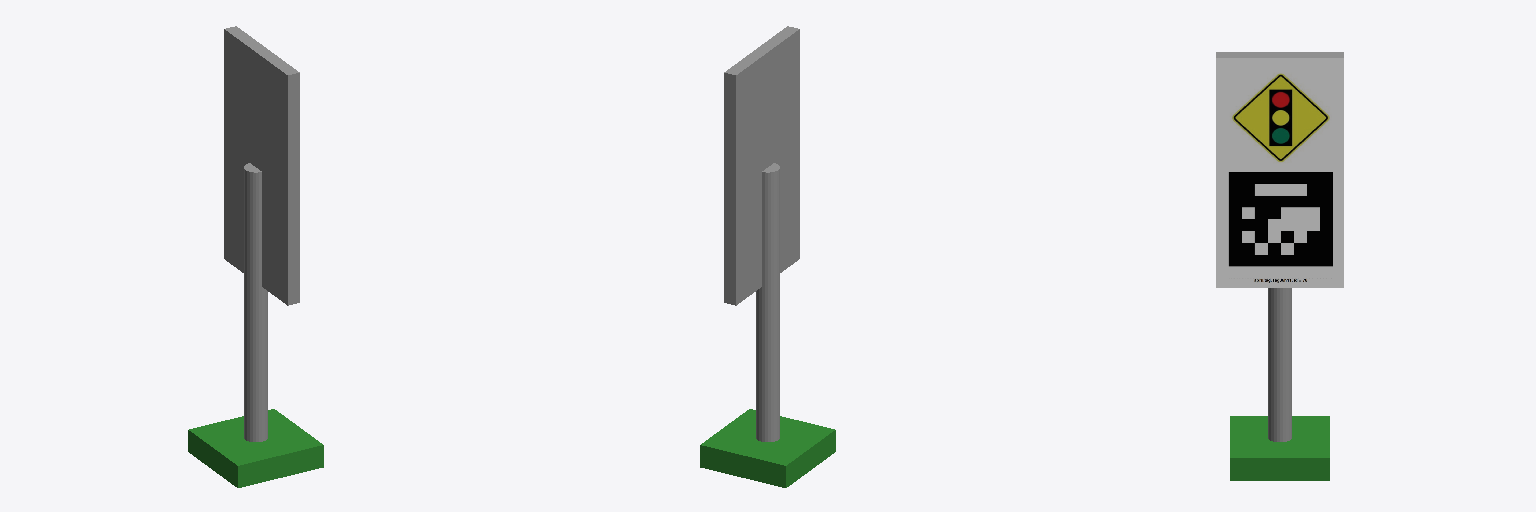
3 views of the same model, side by side, from view 1: azimuth 30°, elevation 25°; view 2: azimuth 150°, elevation 25°; view 3: azimuth 270°, elevation 25° (orthographic).
Parts seen in each view (by area): view 1: SketchUp.002_ID23, SketchUp_ID2, SketchUp.001_ID10; view 2: SketchUp.002_ID23, SketchUp_ID2, SketchUp.001_ID10; view 3: SketchUp.003_ID31, SketchUp_ID2, SketchUp.001_ID10, SketchUp.002_ID23.
Boxes of the visible parts, x1,y1,x2,y2 form: SketchUp.002_ID23: [224, 26, 299, 305]; SketchUp_ID2: [188, 409, 323, 487]; SketchUp.001_ID10: [244, 163, 267, 441]; SketchUp.002_ID23: [724, 26, 799, 305]; SketchUp_ID2: [700, 409, 835, 487]; SketchUp.001_ID10: [756, 163, 779, 441]; SketchUp.003_ID31: [1216, 58, 1343, 287]; SketchUp_ID2: [1230, 416, 1329, 480]; SketchUp.001_ID10: [1268, 288, 1291, 441]; SketchUp.002_ID23: [1216, 52, 1343, 57].
Bounding box in the file's own units: 0.0508 × 0.2301 × 0.065.
Materials: 3 (1 with a texture image).